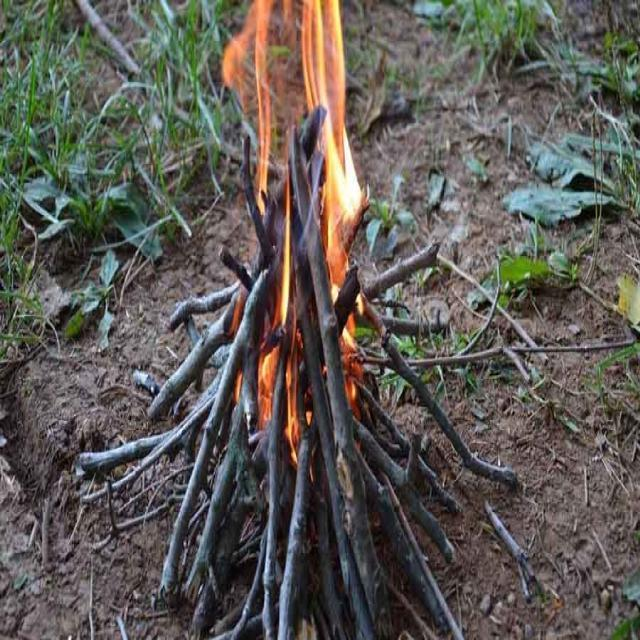Fire: (219, 0, 387, 442)
